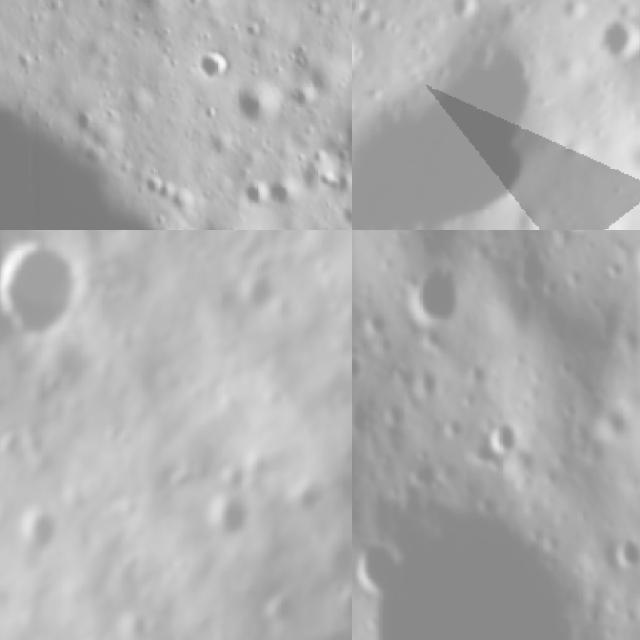crater: (352, 0, 601, 230), (352, 471, 600, 640), (0, 230, 95, 352), (404, 258, 474, 334), (580, 2, 640, 82), (201, 488, 264, 547), (14, 504, 74, 562), (228, 266, 286, 321), (586, 396, 640, 453), (352, 536, 402, 592), (352, 12, 379, 105), (478, 411, 523, 466), (284, 479, 325, 527), (352, 0, 393, 45), (243, 84, 286, 126), (373, 395, 416, 436), (508, 199, 564, 230), (434, 0, 486, 32), (608, 525, 640, 574), (192, 48, 233, 84), (553, 0, 594, 28), (474, 0, 537, 15), (352, 348, 373, 391), (245, 181, 268, 214), (79, 230, 130, 244), (632, 459, 640, 508)
